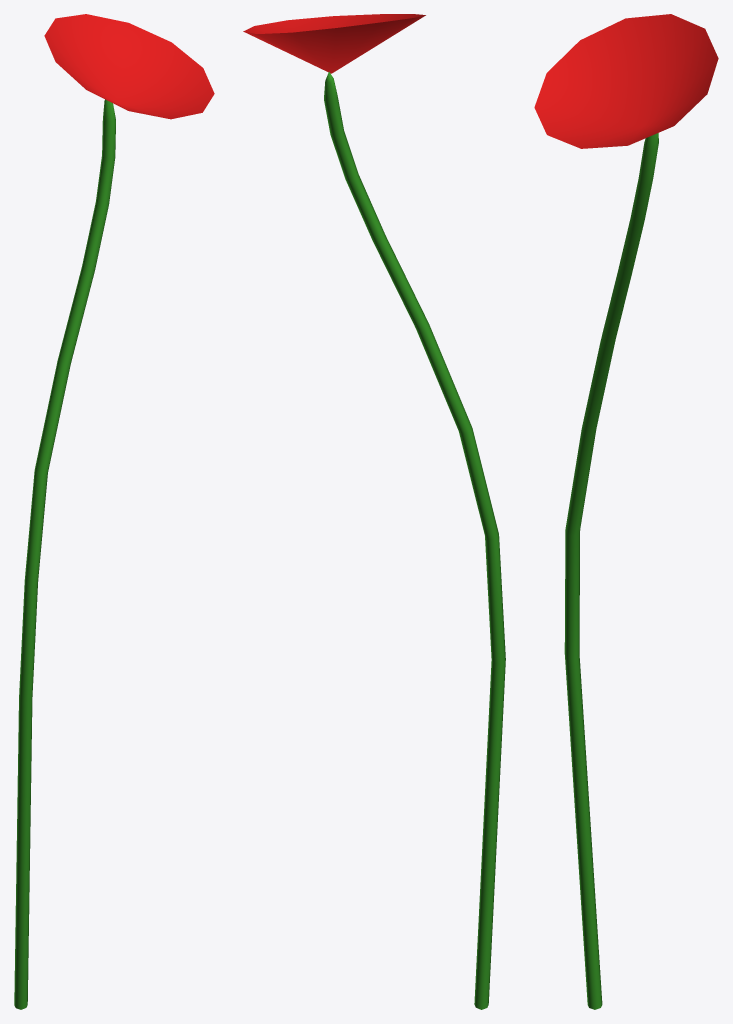
The model's file is SM_flower_01.fbx.
The picture shows the model from 3 angles, left to right: view 1: azimuth 30°, elevation 25°; view 2: azimuth 150°, elevation 25°; view 3: azimuth 270°, elevation 25°; orthographic projection. The views are drawn at different scales.
Parts seen in each view (by area): view 1: Object3427866; view 2: Object3427866; view 3: Object3427866.
Boxes of the visible parts, x1,y1,x2,y2 form: Object3427866: (14,14,214,1009); Object3427866: (243,14,505,1009); Object3427866: (534,14,718,1009).
Size of the model in its own units: 6.18 by 26.41 by 4.31.
